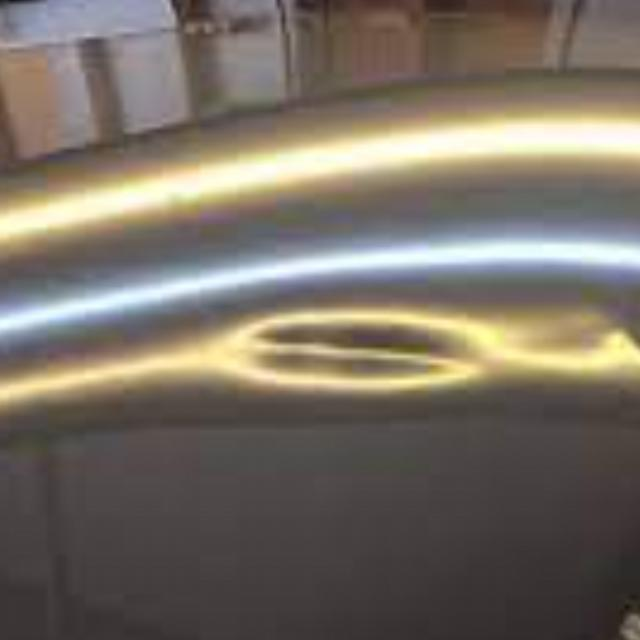dents: (235, 320, 480, 382), (507, 318, 630, 394)
